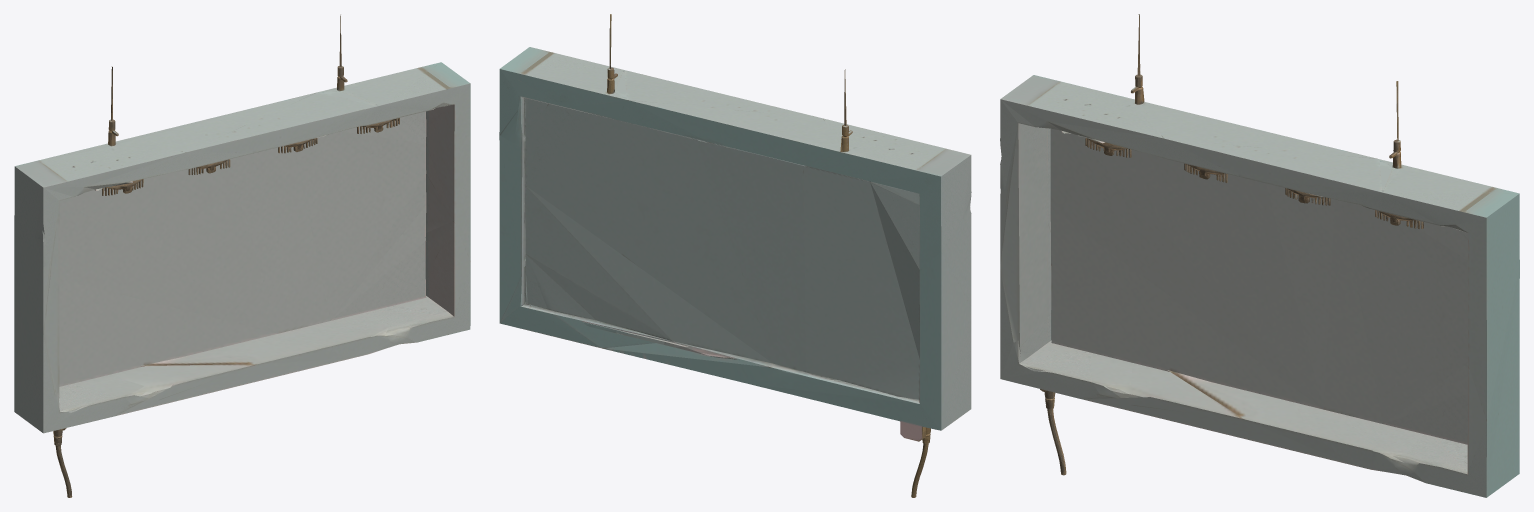
File: negatoscopio_B.glb
The picture shows the model from 3 angles, left to right: view 1: azimuth 30°, elevation 25°; view 2: azimuth 150°, elevation 25°; view 3: azimuth 330°, elevation 25°; orthographic projection. The views are drawn at different scales.
Bounding box in the file's own units: 1.9 × 1.74 × 0.2267.
1 material, 1 textured.
